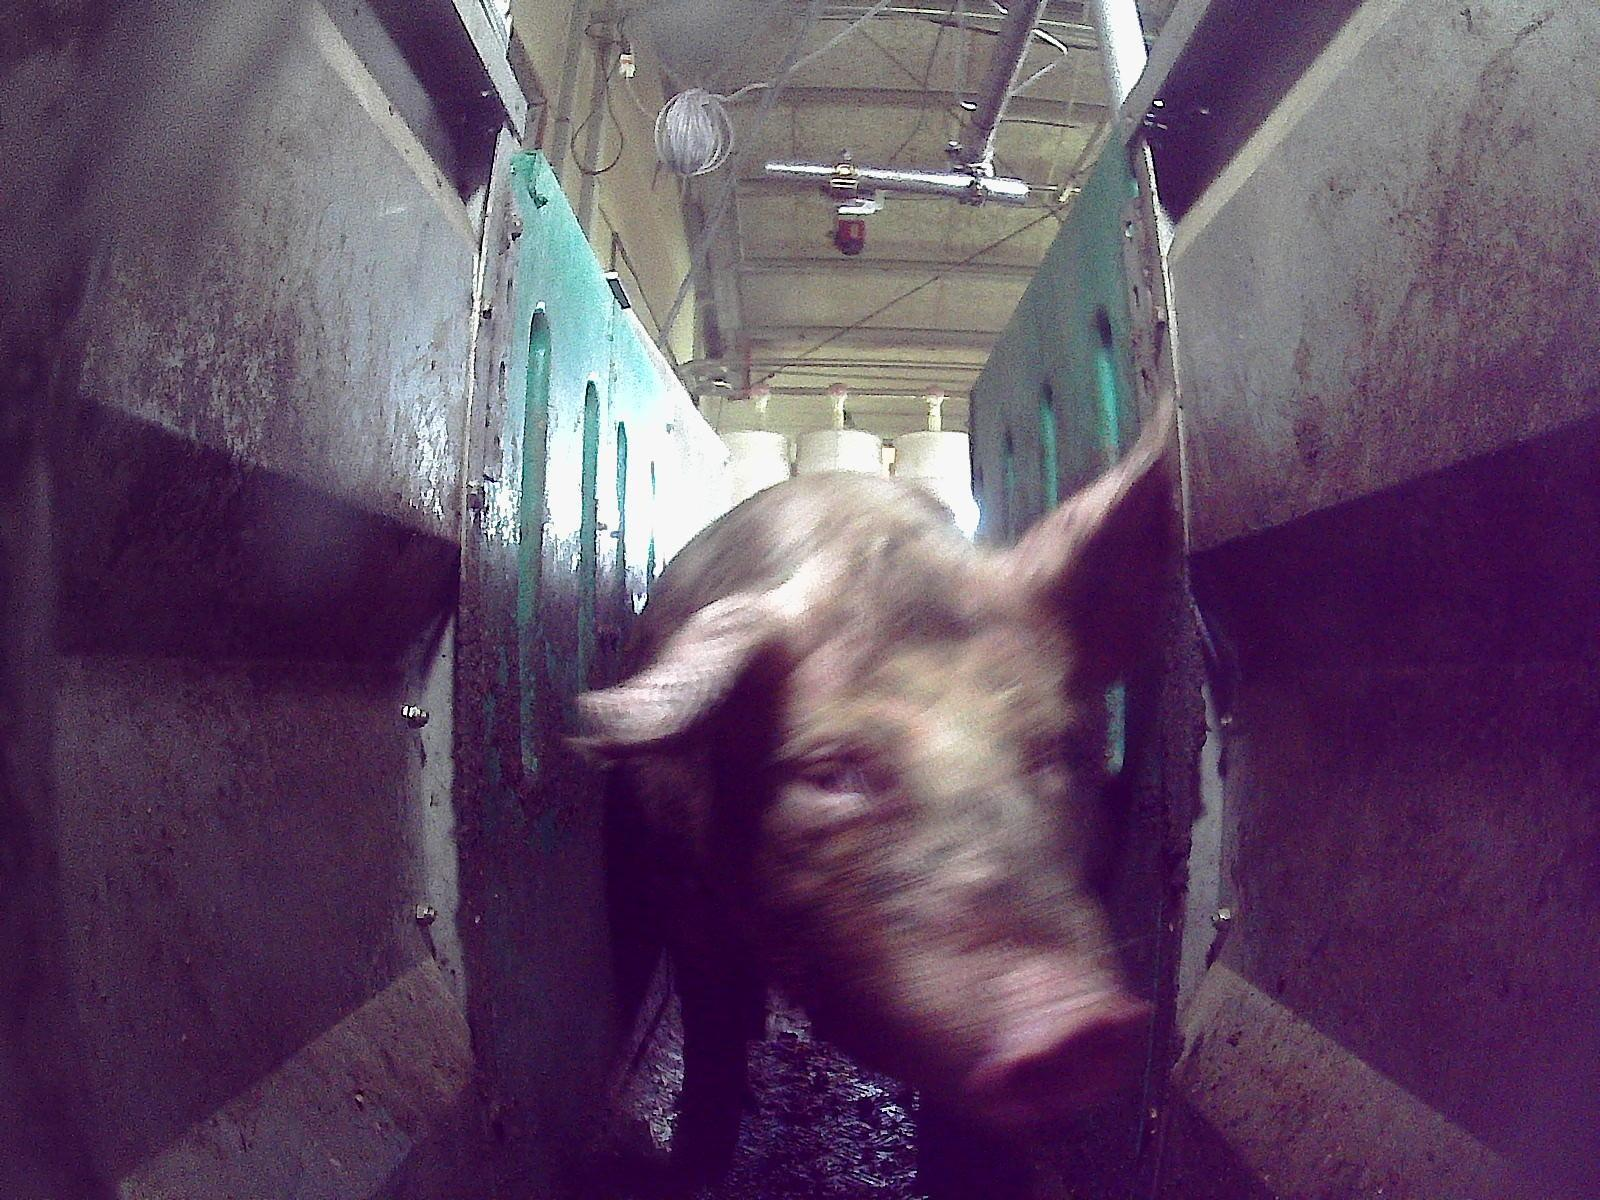Face: (699, 633, 1154, 1124)
